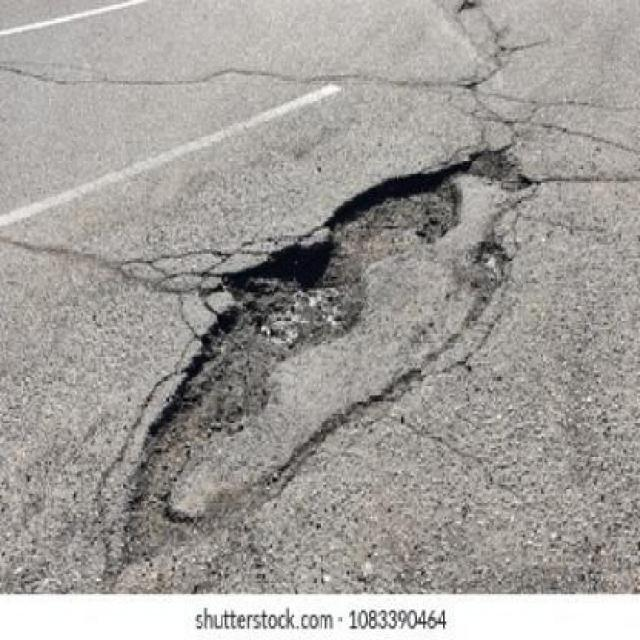Buraco: (111, 143, 537, 565)
